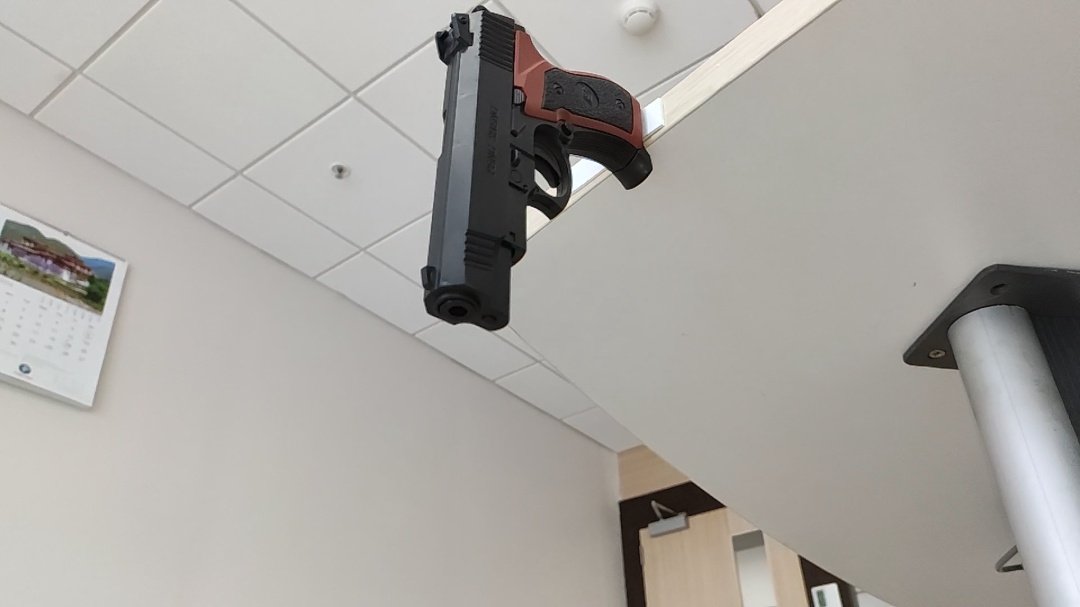gun: (415, 3, 657, 339)
